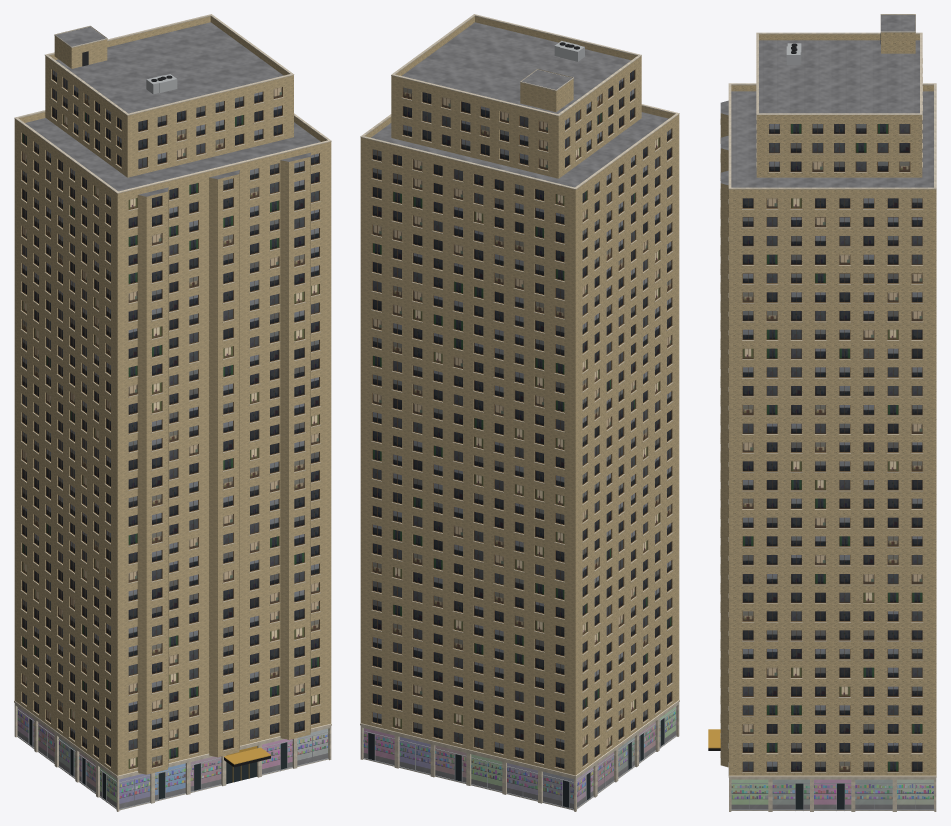
Rendered from hd21_eighties_bay_window_tower.gltf.
3 renders of one model, left to right at view 1: azimuth 30°, elevation 25°; view 2: azimuth 150°, elevation 25°; view 3: azimuth 270°, elevation 25°, orthographic.
Visible parts, largest first — view 1: hd21_eighties_bay_window_tower_LOD0; view 2: hd21_eighties_bay_window_tower_LOD0; view 3: hd21_eighties_bay_window_tower_LOD0.
Boxes of the visible parts, x1,y1,x2,y2 form: hd21_eighties_bay_window_tower_LOD0: (14,14,331,811); hd21_eighties_bay_window_tower_LOD0: (360,14,679,811); hd21_eighties_bay_window_tower_LOD0: (708,14,936,811).
Size of what is drawn, in the model's own units: 36.14 by 113 by 33.09.
Materials: 13 (5 with a texture image).
